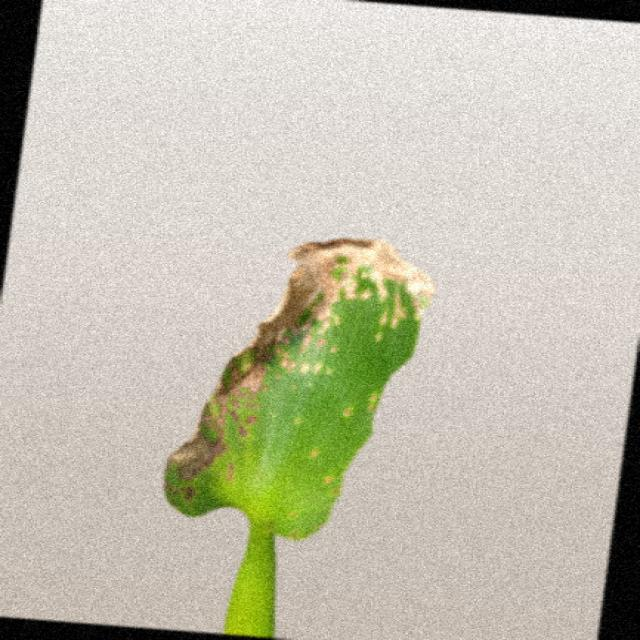daun berpenyakit bercak: (165, 240, 435, 637)
